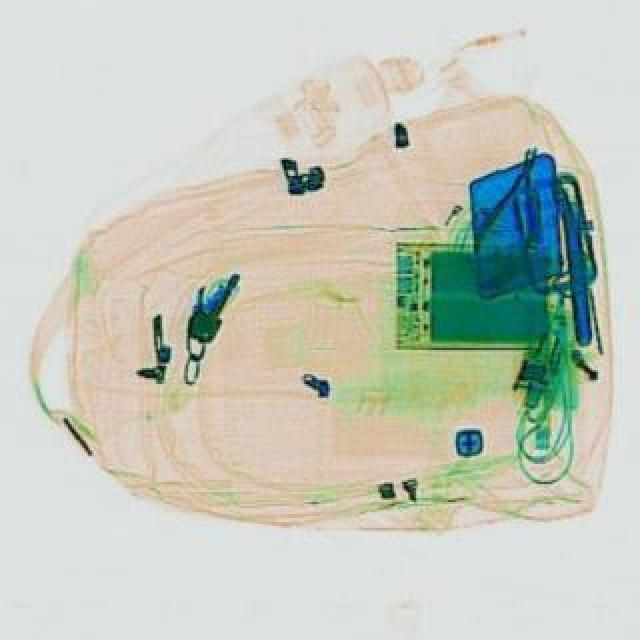wrench: (472, 136, 564, 266)
